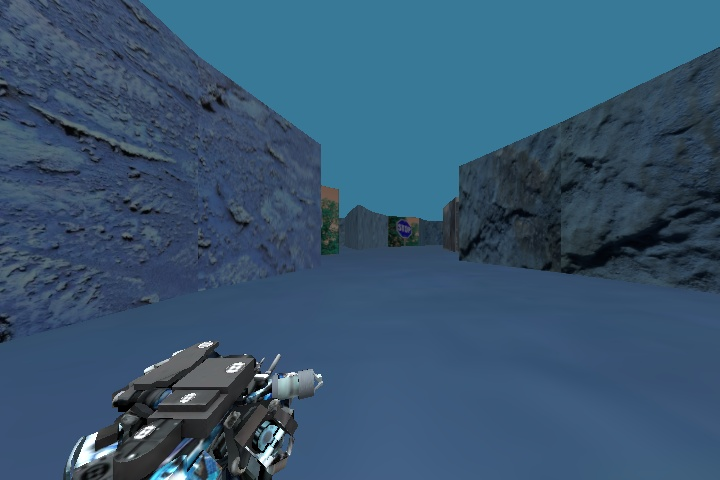stop_sign: (392, 218, 416, 240)
